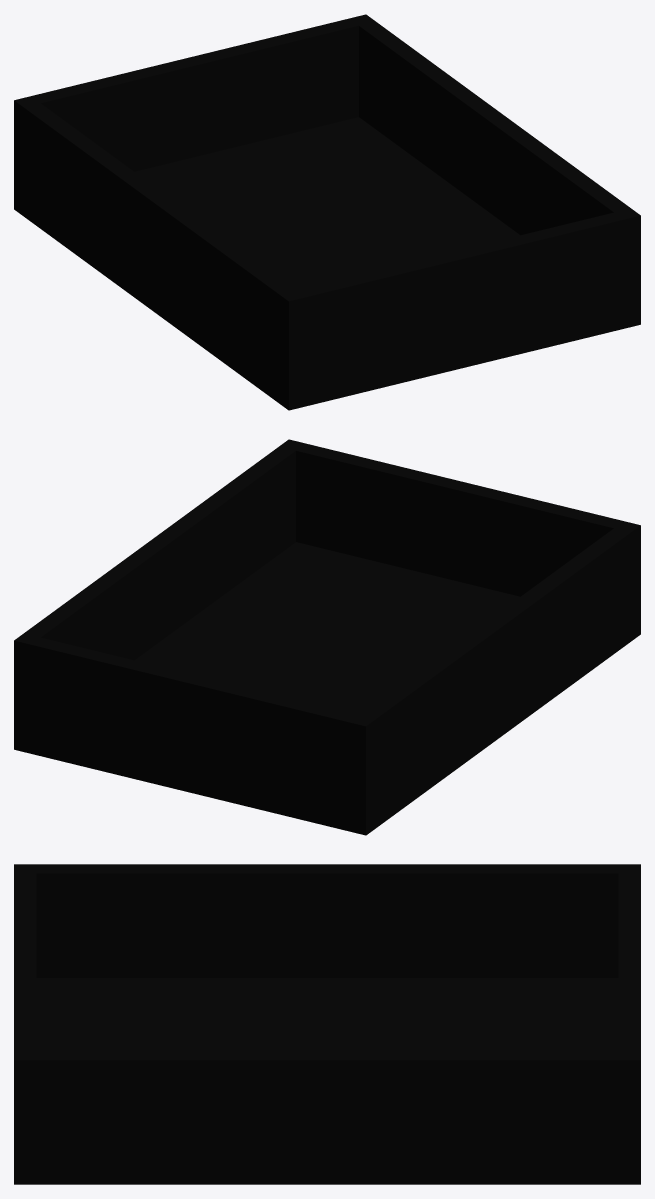
3 renders of one model, top to bottom at view 1: azimuth 30°, elevation 25°; view 2: azimuth 150°, elevation 25°; view 3: azimuth 270°, elevation 25°, orthographic. The views are drawn at different scales.
Parts seen in each view (by area): view 1: Box_412x557x122; view 2: Box_412x557x122; view 3: Box_412x557x122.
Boxes of the visible parts, x1,y1,x2,y2 form: Box_412x557x122: (14,14,640,410); Box_412x557x122: (14,439,640,835); Box_412x557x122: (14,864,640,1184).
Bounding box in the file's own units: 0.412 × 0.122 × 0.557.
1 material, 1 textured.
